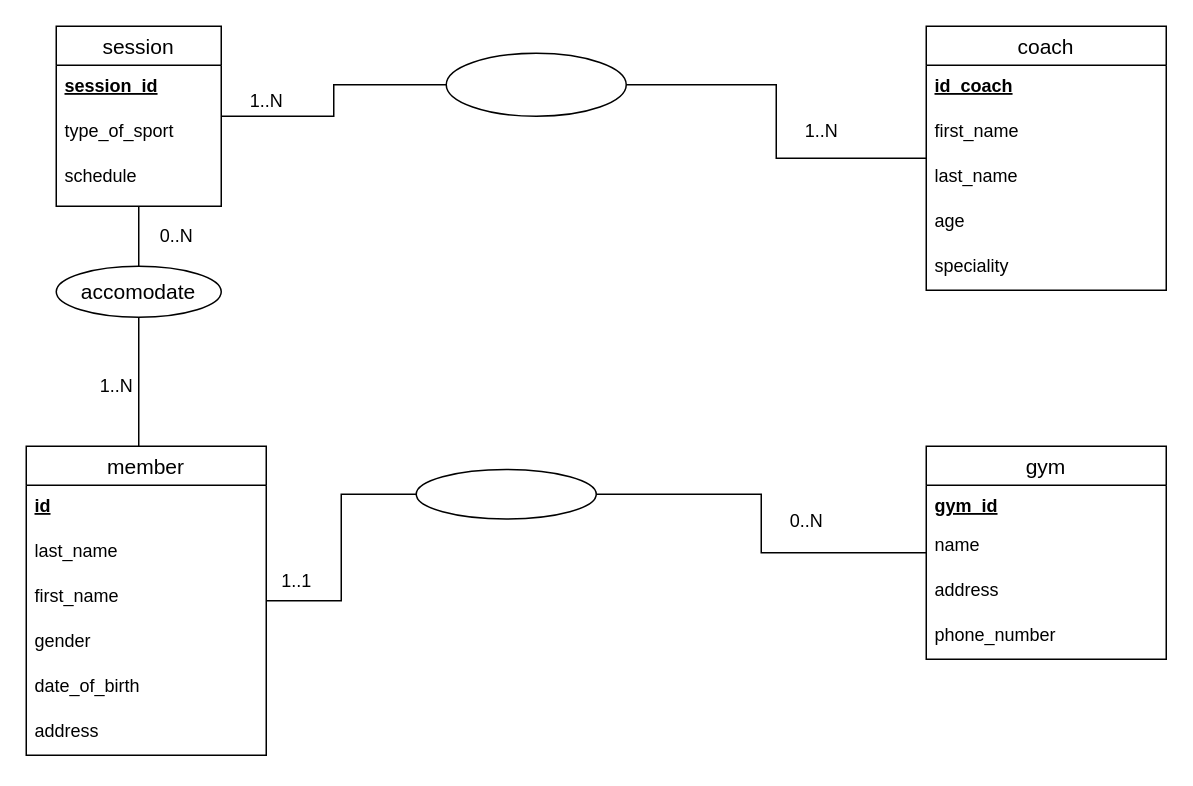
This 1193x786 diagram has some shape labels left out. Each missing label, with the centre of its shape:
"led_by" belongs at [535,84].
"register_at" belongs at [505,493].
